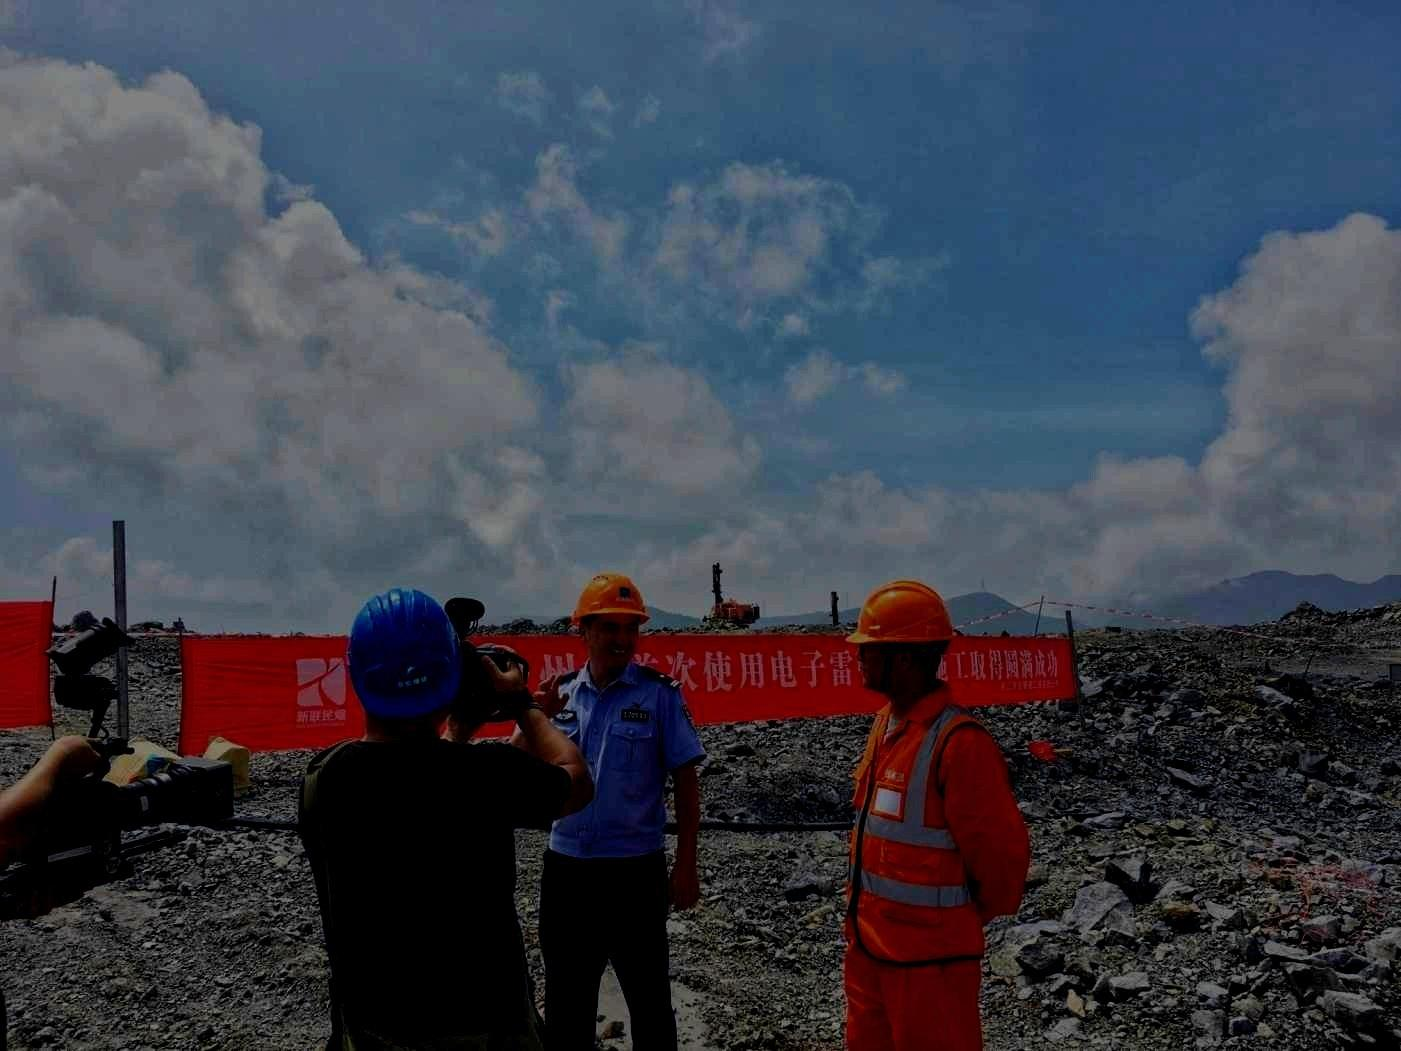helmet: (347, 584, 463, 743), (845, 575, 955, 694), (569, 571, 652, 669)
